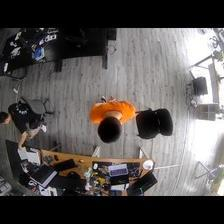normal: (88, 94, 136, 143), (1, 95, 52, 141)
